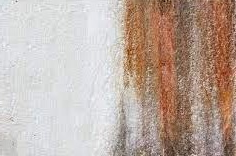Corrosion: (113, 1, 236, 156)
